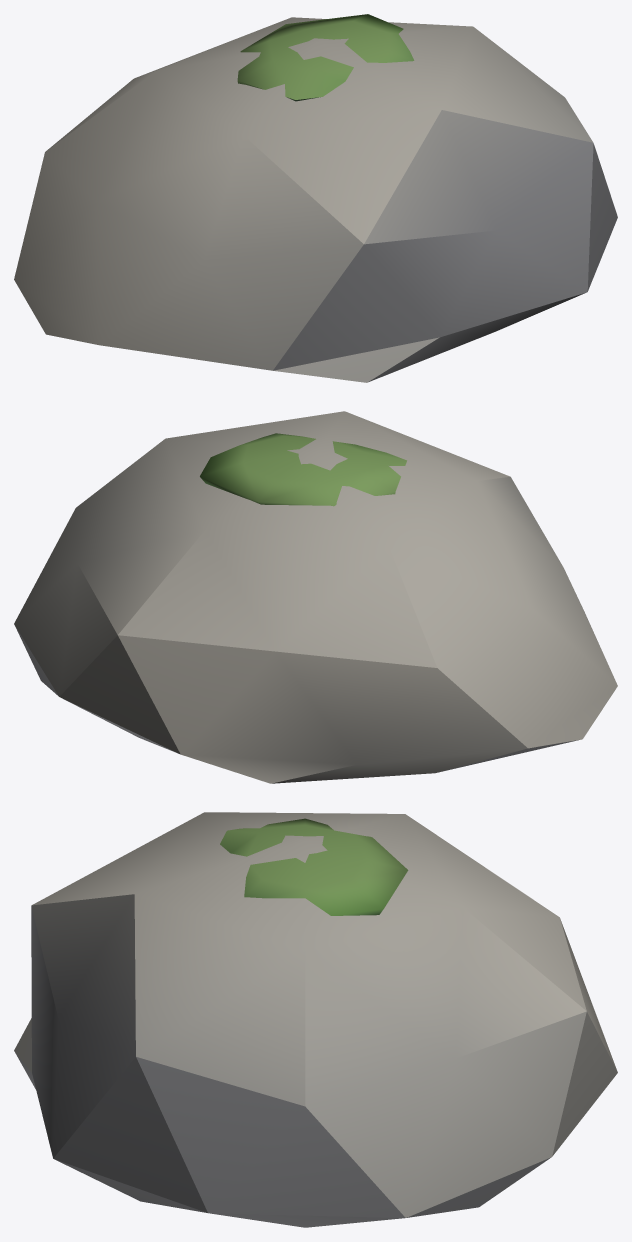
The model's file is RockA.fbx.
The picture shows the model from 3 angles, top to bottom: view 1: azimuth 30°, elevation 25°; view 2: azimuth 150°, elevation 25°; view 3: azimuth 270°, elevation 25°; orthographic projection. The views are drawn at different scales.
Parts seen in each view (by area): view 1: SM_Veg_RockA; view 2: SM_Veg_RockA; view 3: SM_Veg_RockA.
Boxes of the visible parts, <box> form: SM_Veg_RockA: <box>14,14,617,382</box>; SM_Veg_RockA: <box>14,411,617,783</box>; SM_Veg_RockA: <box>14,812,617,1227</box>.
Bounding box in the file's own units: 1.99 × 0.7989 × 1.72.
